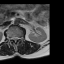CCS_normal: (14, 34, 16, 44)
LFS_stenosis: (18, 35, 20, 40)
LLS_normal: (16, 35, 18, 42)
RFS_normal: (10, 35, 12, 40)
RLS_normal: (12, 35, 14, 41)
